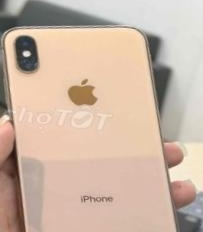scratch: (28, 60, 44, 72), (13, 55, 28, 67)
